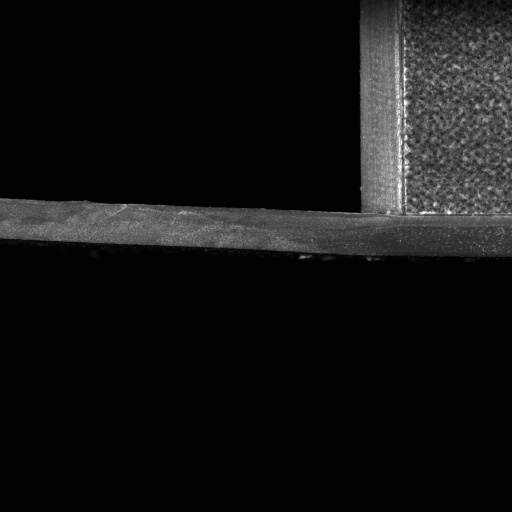changdai: (0, 197, 405, 260)
